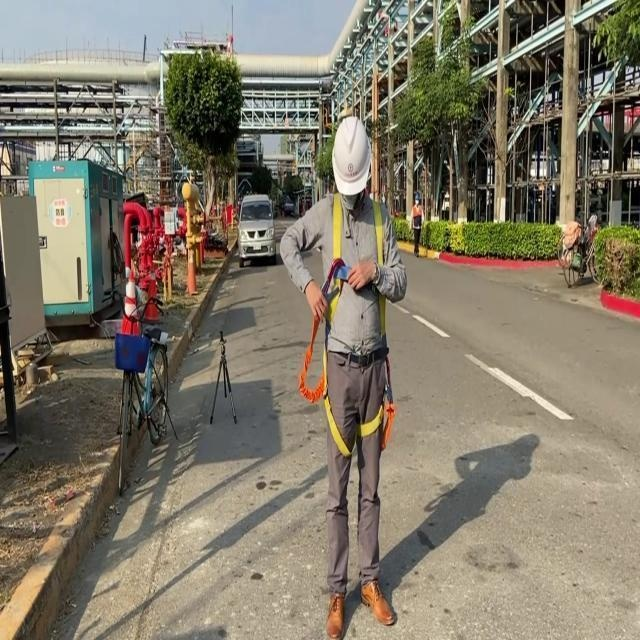Arnes_seguridad: (325, 190, 395, 459)
